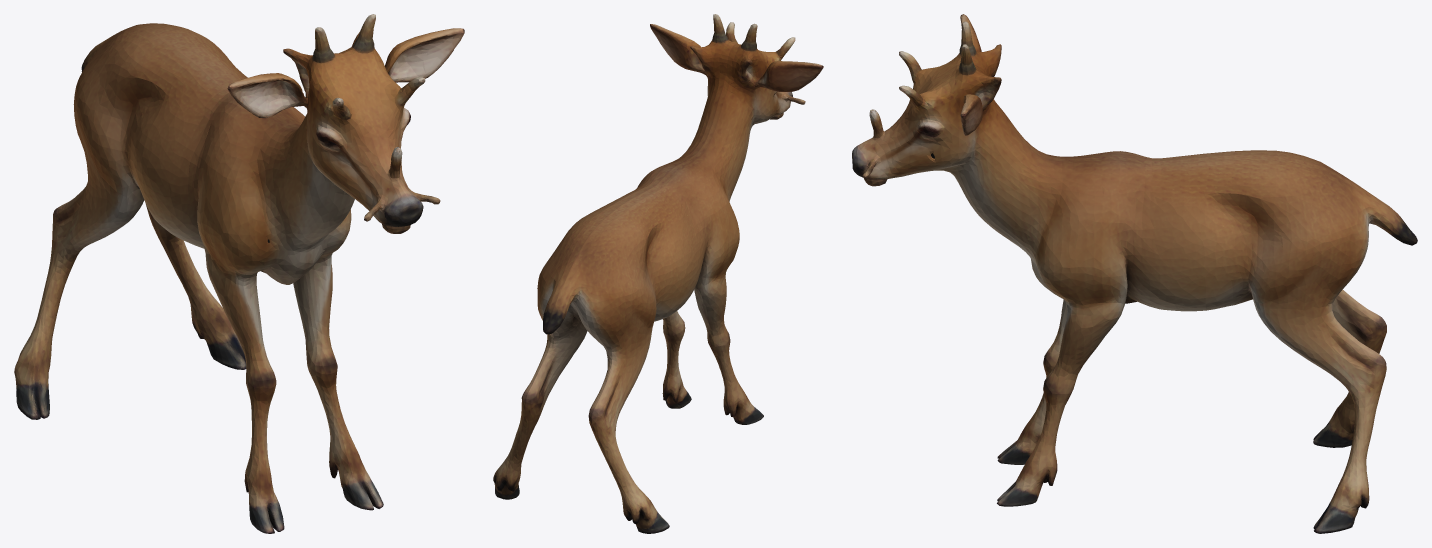
3 renders of one model, left to right at view 1: azimuth 30°, elevation 25°; view 2: azimuth 150°, elevation 25°; view 3: azimuth 270°, elevation 25°, orthographic. The views are drawn at different scales.
Parts seen in each view (by area): view 1: world; view 2: world; view 3: world.
Boxes of the visible parts, x1=… form: world: x1=14, y1=14, x2=464, y2=533; world: x1=493, y1=14, x2=823, y2=533; world: x1=852, y1=14, x2=1417, y2=533.
Size of the model in its own units: 0.4219 by 0.8852 by 1.
1 material, 1 textured.
